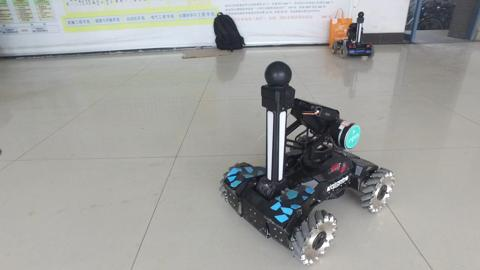bag: (211, 10, 248, 54), (328, 8, 353, 48)
chariot: (217, 60, 397, 266), (329, 10, 375, 58)
